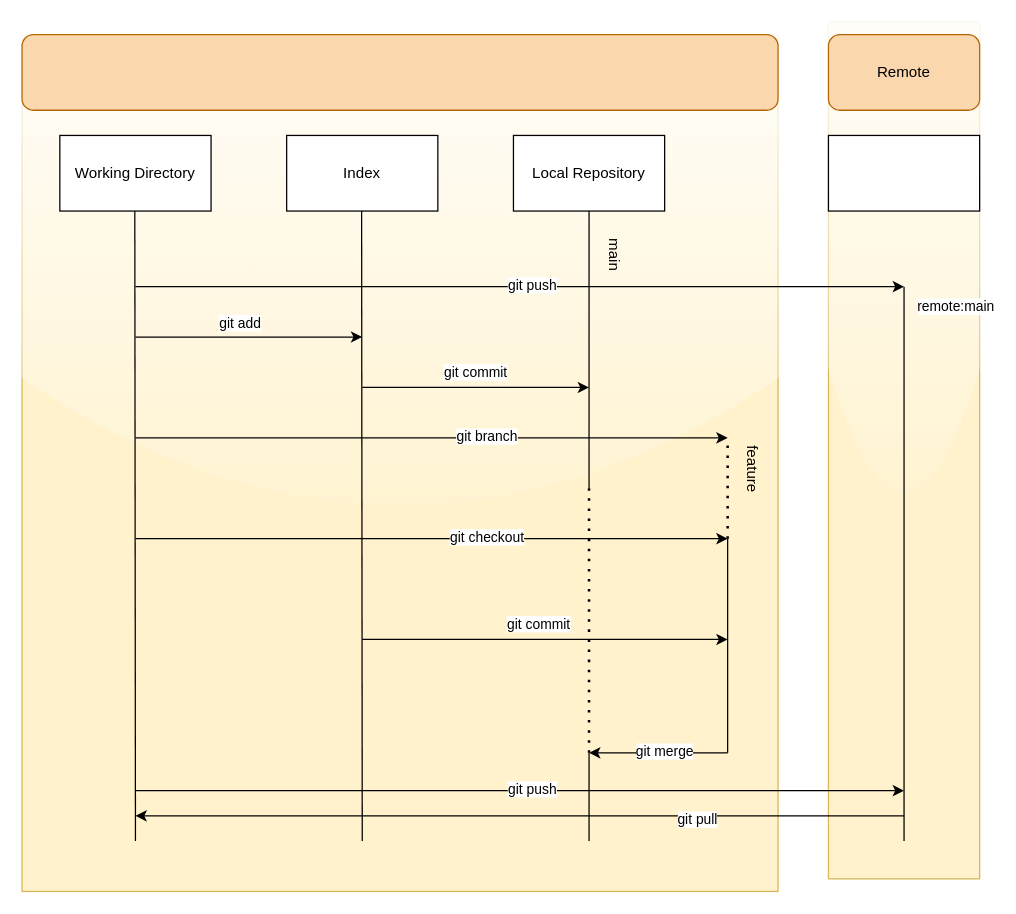
Image size: 1016x914. Some labels were removed from this diagram. The centre of each missing label's shape, as x and y in pixels:
"Local" belongs at [399,71].
"Remote Repository" belongs at [903,172].
